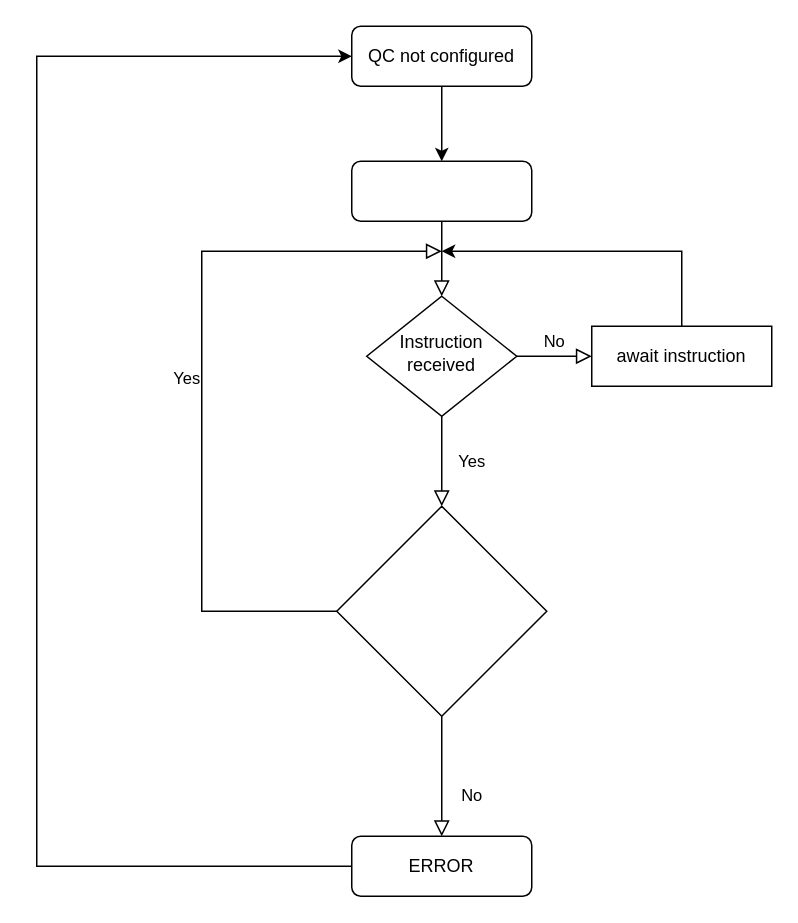
Image size: 798x923. Some labels were removed from this diagram. The shapes that lost their labels are listed below. From the top down, each one's centre as x and y in pixels, then its label:
(x=441, y=190): QC app initialised
(x=441, y=610): Performed task successfully
